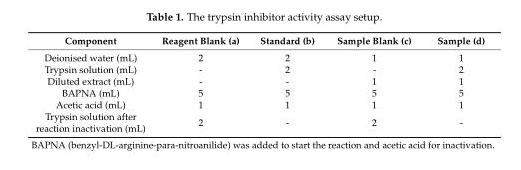table: (34, 34, 484, 133)
table column: (34, 34, 152, 133), (325, 34, 423, 133), (152, 34, 248, 133), (248, 34, 325, 133), (423, 34, 484, 133)
table column header: (34, 34, 484, 48)
table row: (34, 109, 484, 133), (34, 34, 484, 48), (34, 48, 484, 62), (34, 62, 484, 74), (34, 74, 484, 86), (34, 86, 484, 98), (34, 98, 484, 109)
